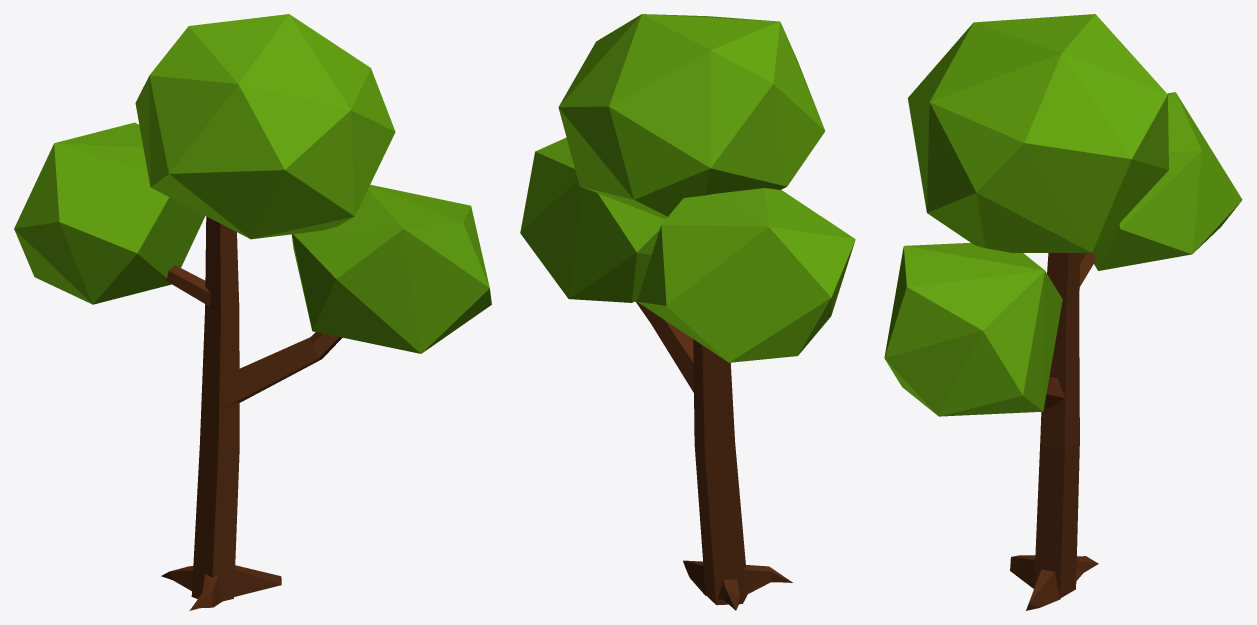
The model's file is arbolg.obj.
3 views of the same model, side by side, from view 1: azimuth 30°, elevation 25°; view 2: azimuth 150°, elevation 25°; view 3: azimuth 270°, elevation 25° (orthographic). The views are drawn at different scales.
Parts seen in each view (by area): view 1: tree01_Cylinder.006; view 2: tree01_Cylinder.006; view 3: tree01_Cylinder.006.
Part boxes in pixels (<box>): tree01_Cylinder.006: <box>14,14,491,610</box>; tree01_Cylinder.006: <box>520,14,855,610</box>; tree01_Cylinder.006: <box>884,14,1242,610</box>.
Size of the model in its own units: 3.3 by 4.7 by 2.64.
